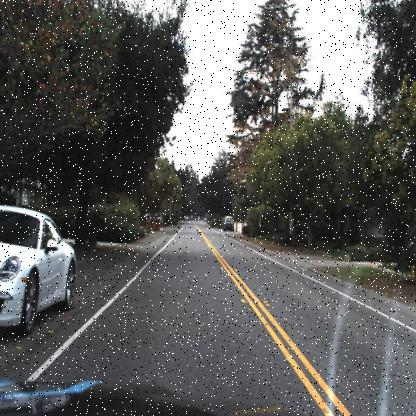car: (0, 201, 78, 337), (221, 211, 236, 234)
